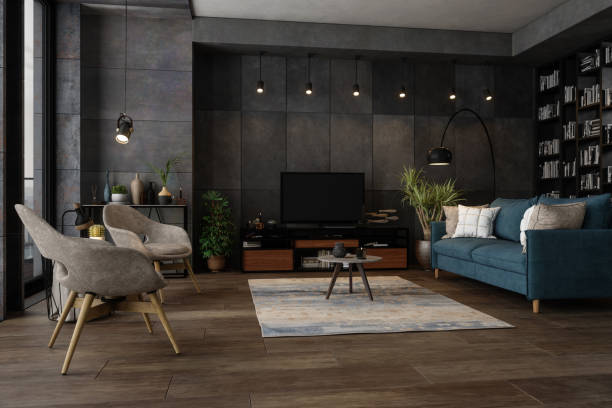TV: (277, 168, 364, 234)
TV stand: (240, 227, 410, 275)
chair: (11, 201, 182, 377), (101, 201, 202, 304)
floor lamp: (427, 106, 504, 202)
large plant: (401, 163, 465, 270), (199, 186, 237, 272)
small plant: (153, 156, 176, 202), (109, 183, 130, 202)
sofa: (428, 188, 612, 313)
table: (317, 249, 384, 301)
